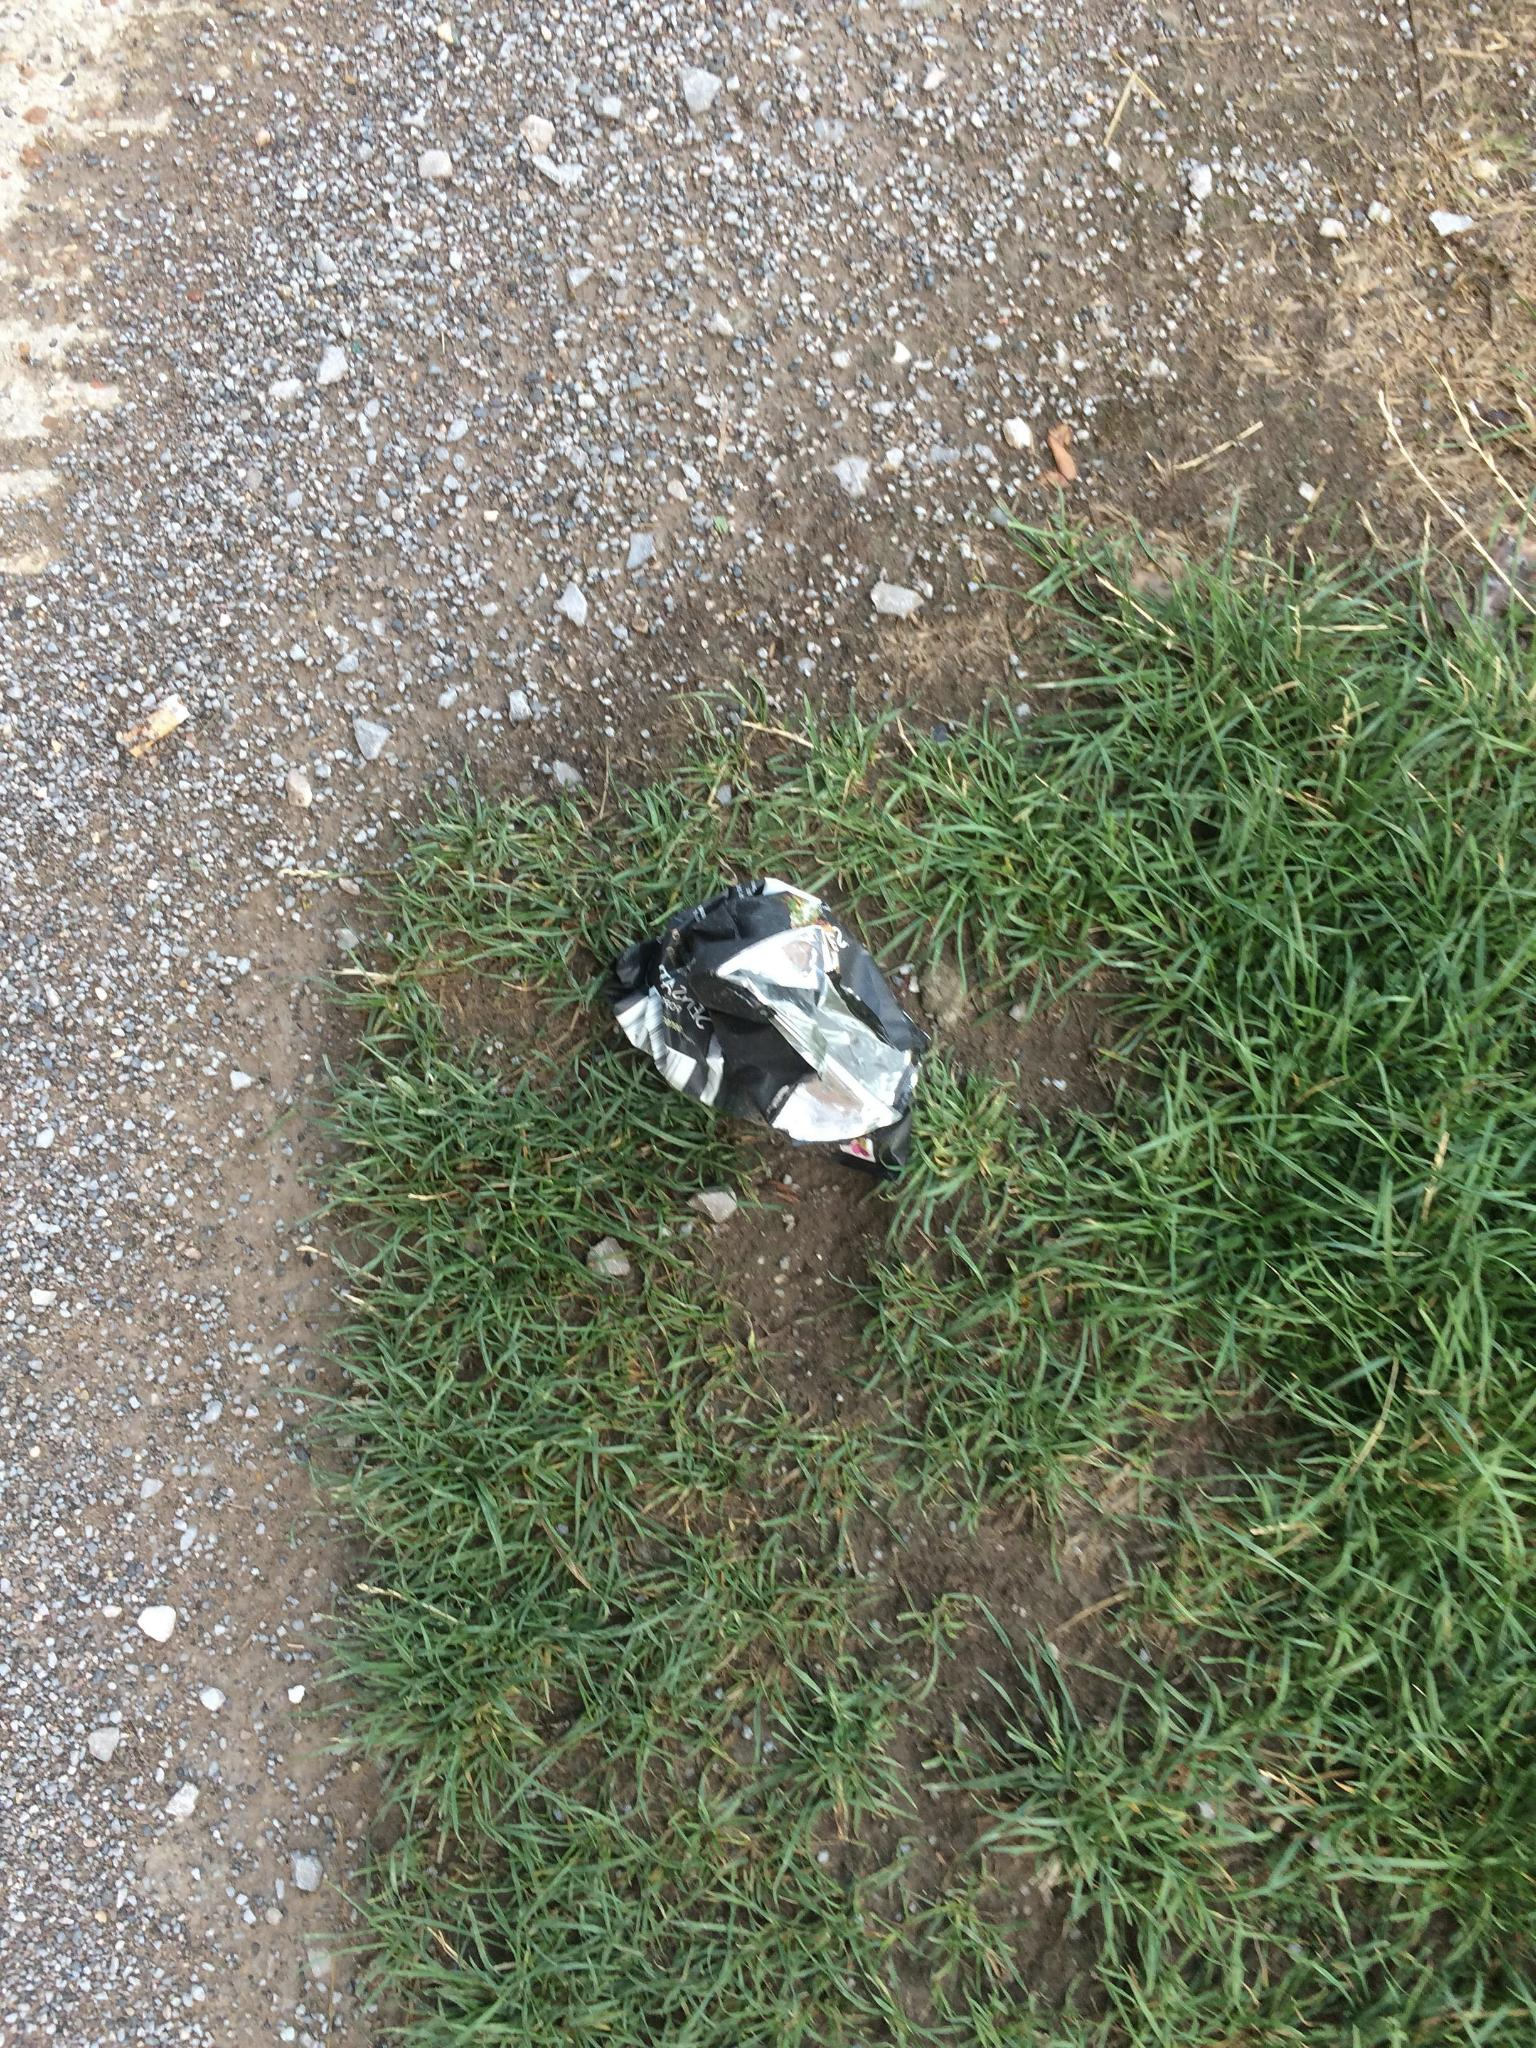Plastic: (595, 869, 944, 1187)
